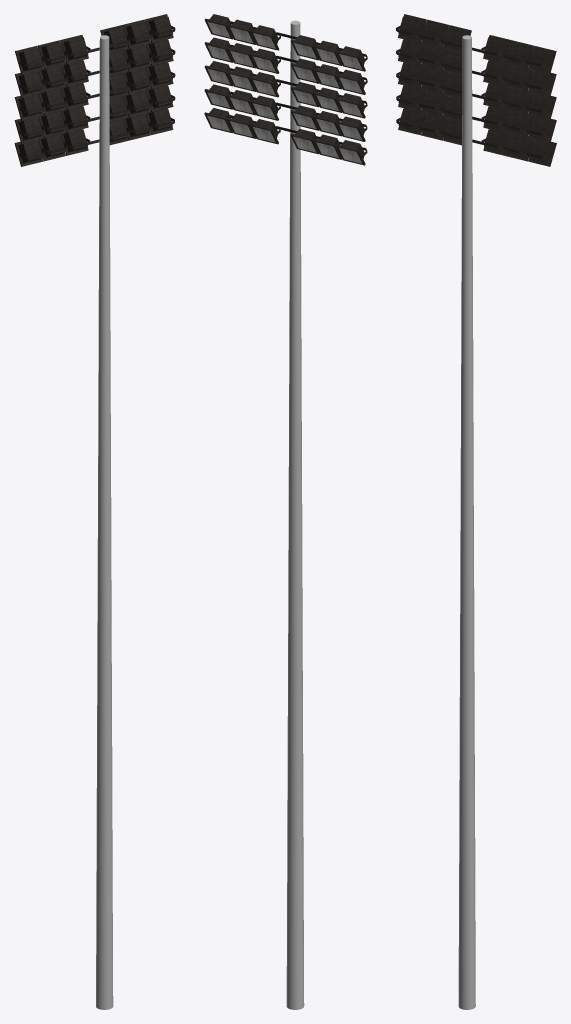
File: LuDeng.fbx
The picture shows the model from 3 angles, left to right: view 1: azimuth 30°, elevation 25°; view 2: azimuth 150°, elevation 25°; view 3: azimuth 330°, elevation 25°; orthographic projection.
Visible parts, largest first — view 1: Deng, DengJia; view 2: Deng, DengJia; view 3: Deng, DengJia.
Part boxes in pixels (<box>): Deng: <box>14,14,175,166</box>; DengJia: <box>96,35,113,1009</box>; Deng: <box>204,14,367,165</box>; DengJia: <box>286,20,304,1009</box>; Deng: <box>396,14,556,166</box>; DengJia: <box>458,35,475,1009</box>.
Bounding box in the file's own units: 278 × 1700 × 58.88.
3 materials, 2 textured.
